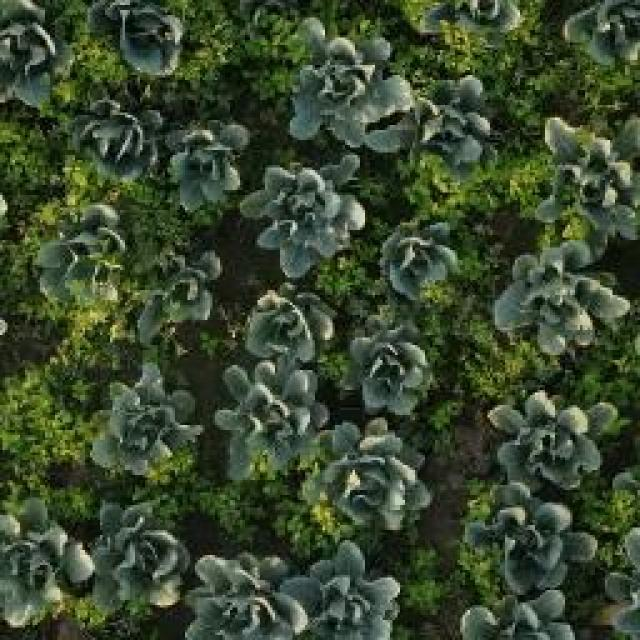cabbage: (305, 421, 442, 542), (288, 23, 414, 150), (496, 237, 635, 352), (481, 391, 628, 486), (245, 160, 370, 266), (450, 480, 562, 598), (328, 312, 438, 430), (142, 105, 252, 223), (1, 500, 97, 634), (94, 364, 199, 481), (213, 360, 328, 466), (186, 545, 310, 640), (542, 115, 640, 232), (288, 551, 416, 640), (88, 502, 186, 616), (415, 65, 509, 176), (377, 212, 469, 306), (238, 277, 334, 366), (129, 245, 225, 331), (41, 208, 125, 304), (67, 93, 152, 184), (103, 0, 198, 78), (555, 0, 640, 63)
